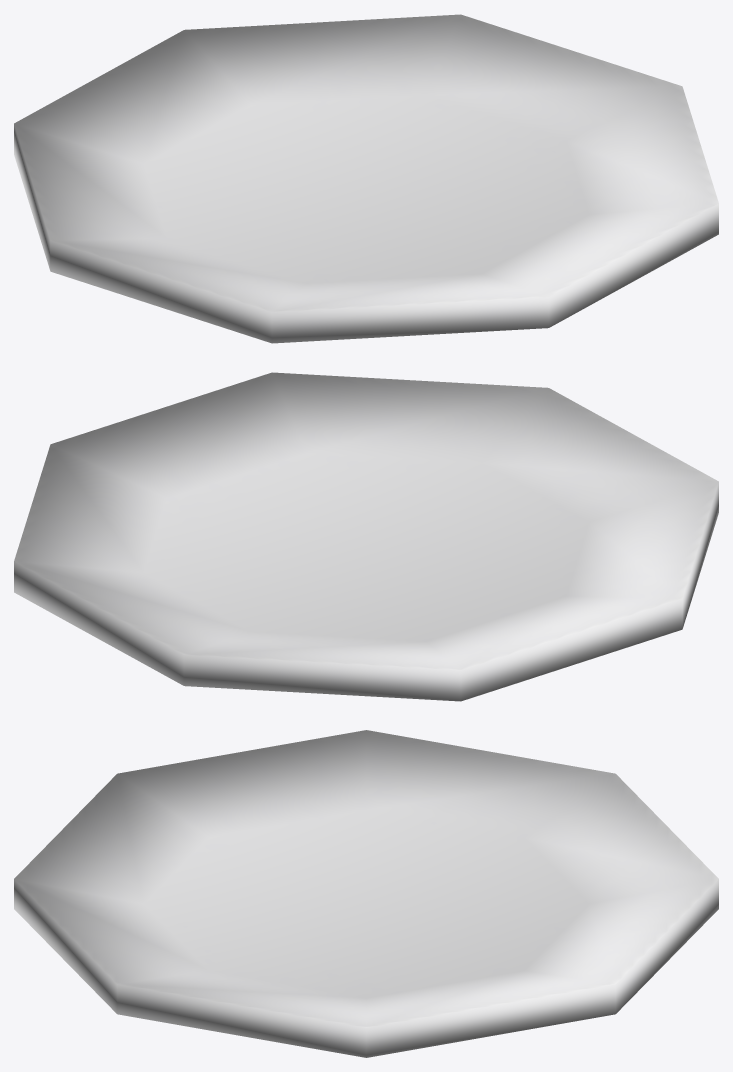
The model's file is plate.FBX.
The picture shows the model from 3 angles, top to bottom: view 1: azimuth 30°, elevation 25°; view 2: azimuth 150°, elevation 25°; view 3: azimuth 270°, elevation 25°; orthographic projection. The views are drawn at different scales.
Parts seen in each view (by area): view 1: Cylinder001; view 2: Cylinder001; view 3: Cylinder001.
Boxes of the visible parts, box(x1,y1,x2,y2) form: Cylinder001: box(14, 14, 718, 343); Cylinder001: box(14, 372, 718, 701); Cylinder001: box(14, 730, 718, 1057).
Size of the model in its own units: 40 by 3.45 by 40.
1 material, 1 textured.
